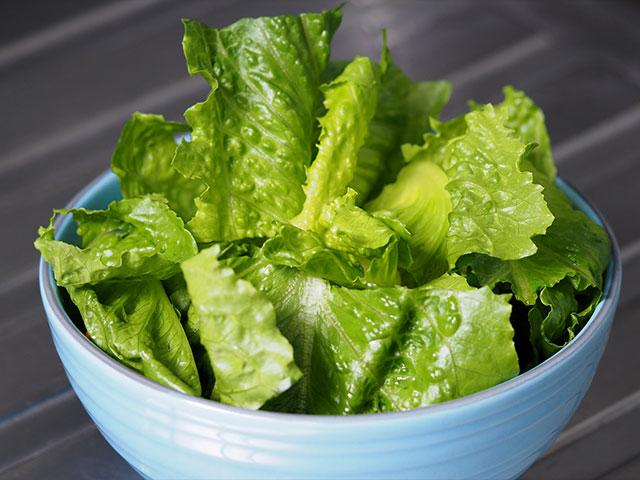chopped lettuce: (145, 113, 511, 342)
